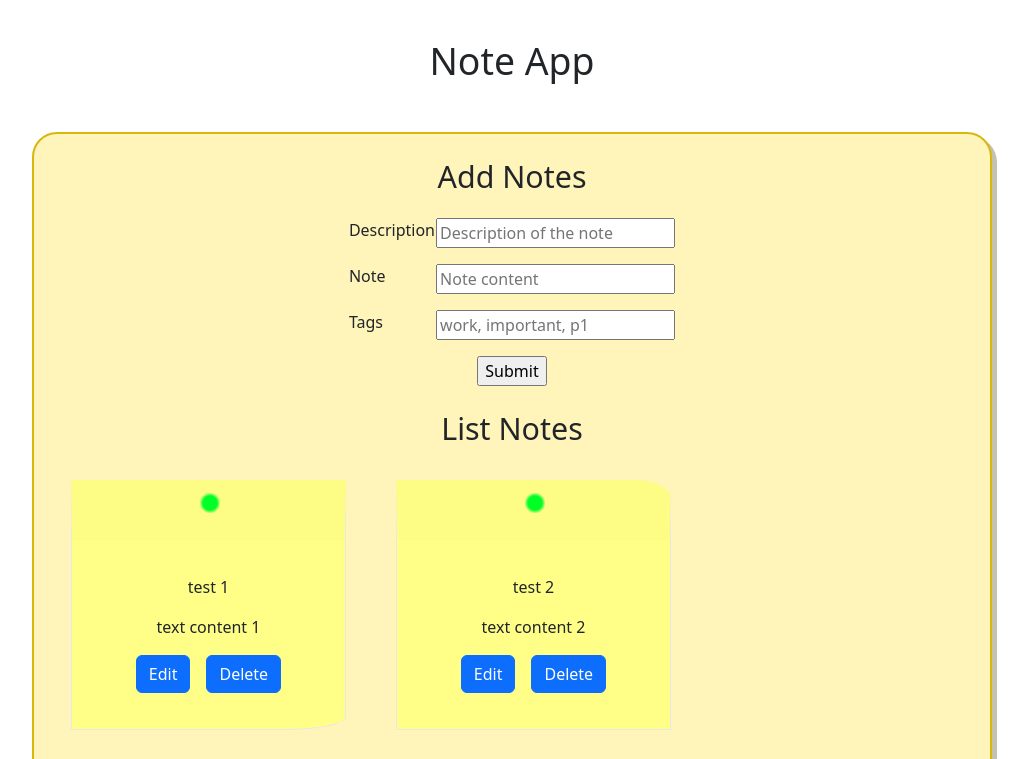
Scenario: Add a note › should add a note
Type "test desc 1" into the field with placeholder "Description of the note".
click(556, 233); type("test desc 1")  # box [436, 218, 675, 248]
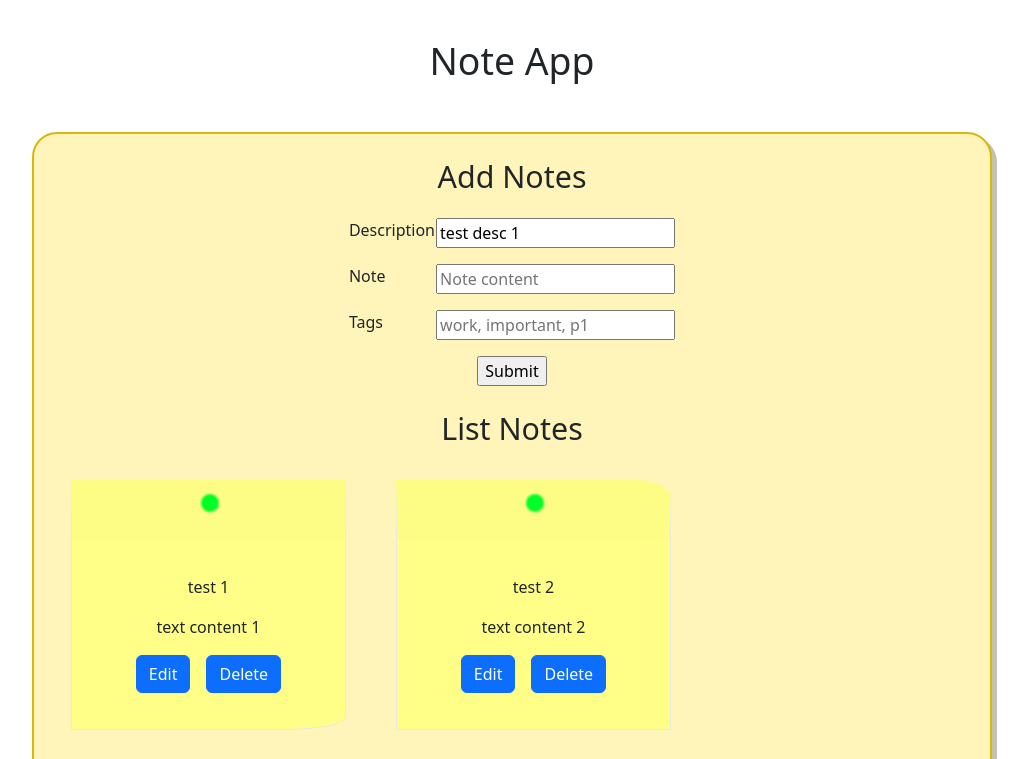
Type "test note 1" into the field with placeholder "Note content".
click(556, 279); type("test note 1")  # box [436, 264, 675, 294]
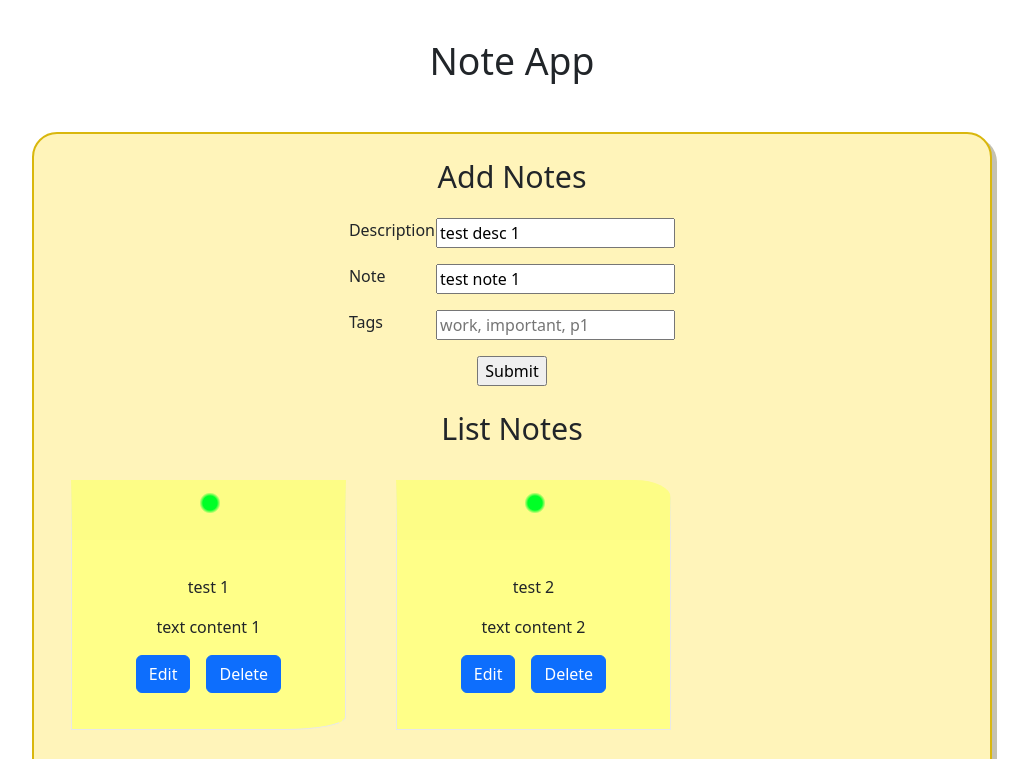
Type "test, tag1" into the field with placeholder "work, important, p1".
click(556, 325); type("test, tag1")  # box [436, 310, 675, 340]
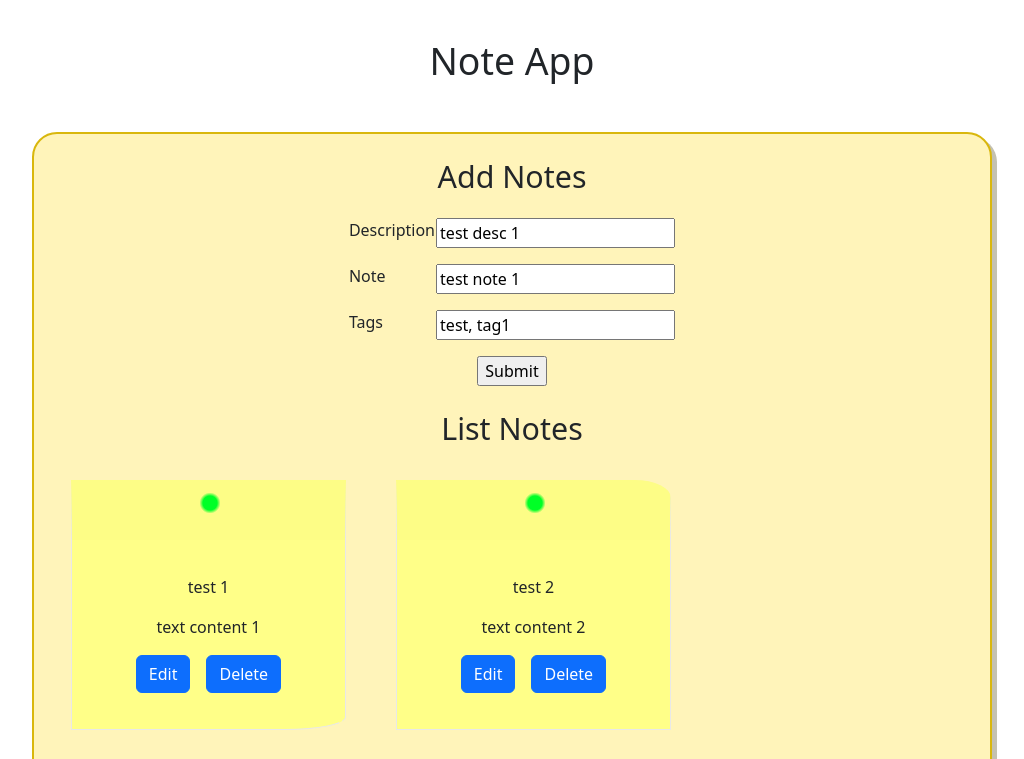
Click the button "Submit".
click(512, 371)  # box [477, 356, 547, 386]
(page scrolled)
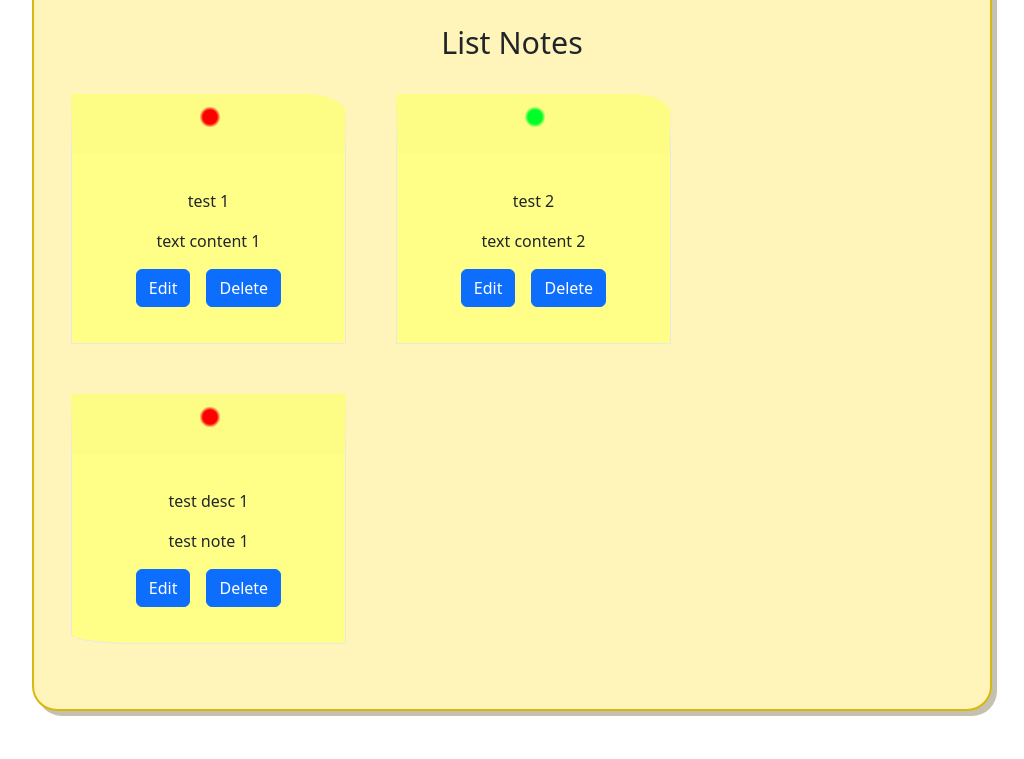
Check: the text "test desc 1" is shown, box [168, 490, 248, 512]
Check: the text "test note 1" is shown, box [168, 530, 249, 552]
